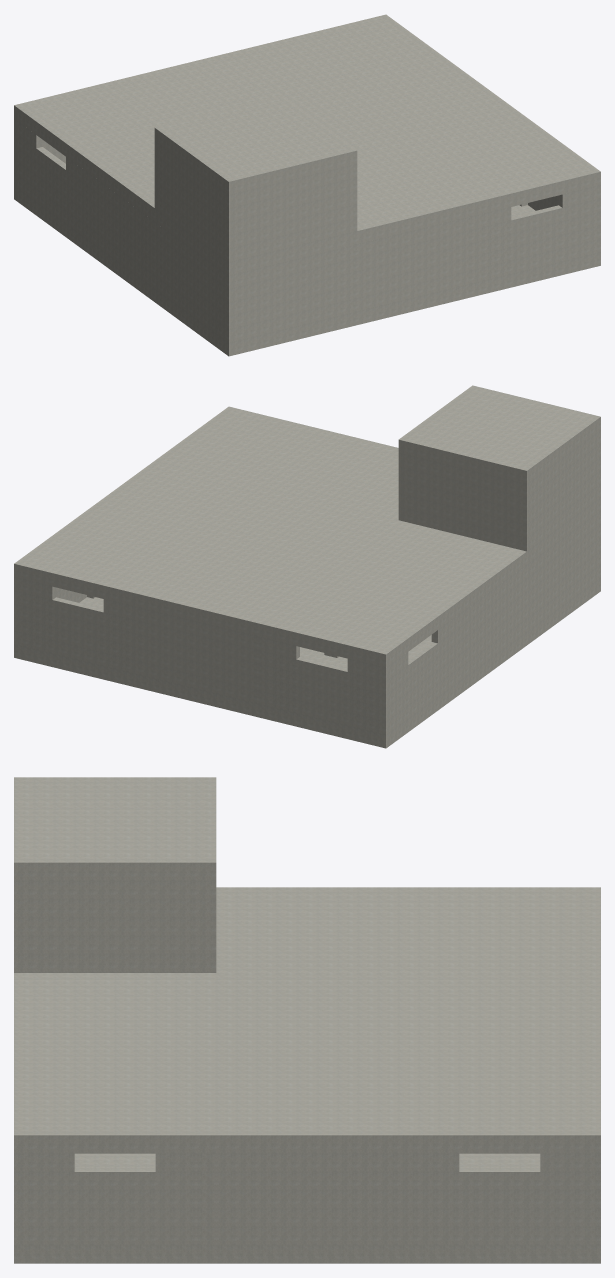
Rendered from parking1.obj.
The picture shows the model from 3 angles, top to bottom: view 1: azimuth 30°, elevation 25°; view 2: azimuth 150°, elevation 25°; view 3: azimuth 270°, elevation 25°; orthographic projection. The views are drawn at different scales.
Parts seen in each view (by area): view 1: Parking_0, Parking_1; view 2: Parking_0, Parking_1; view 3: Parking_0, Parking_1.
Boxes of the visible parts, <box> form: Parking_0: <box>14,14,600,356</box>; Parking_1: <box>88,143,535,216</box>; Parking_0: <box>14,385,600,748</box>; Parking_1: <box>79,523,526,668</box>; Parking_0: <box>14,777,600,1263</box>; Parking_1: <box>74,887,540,1167</box>.
Size of the model in its own units: 17.4 by 7.8 by 17.4.
Materials: 3 (3 with a texture image).
